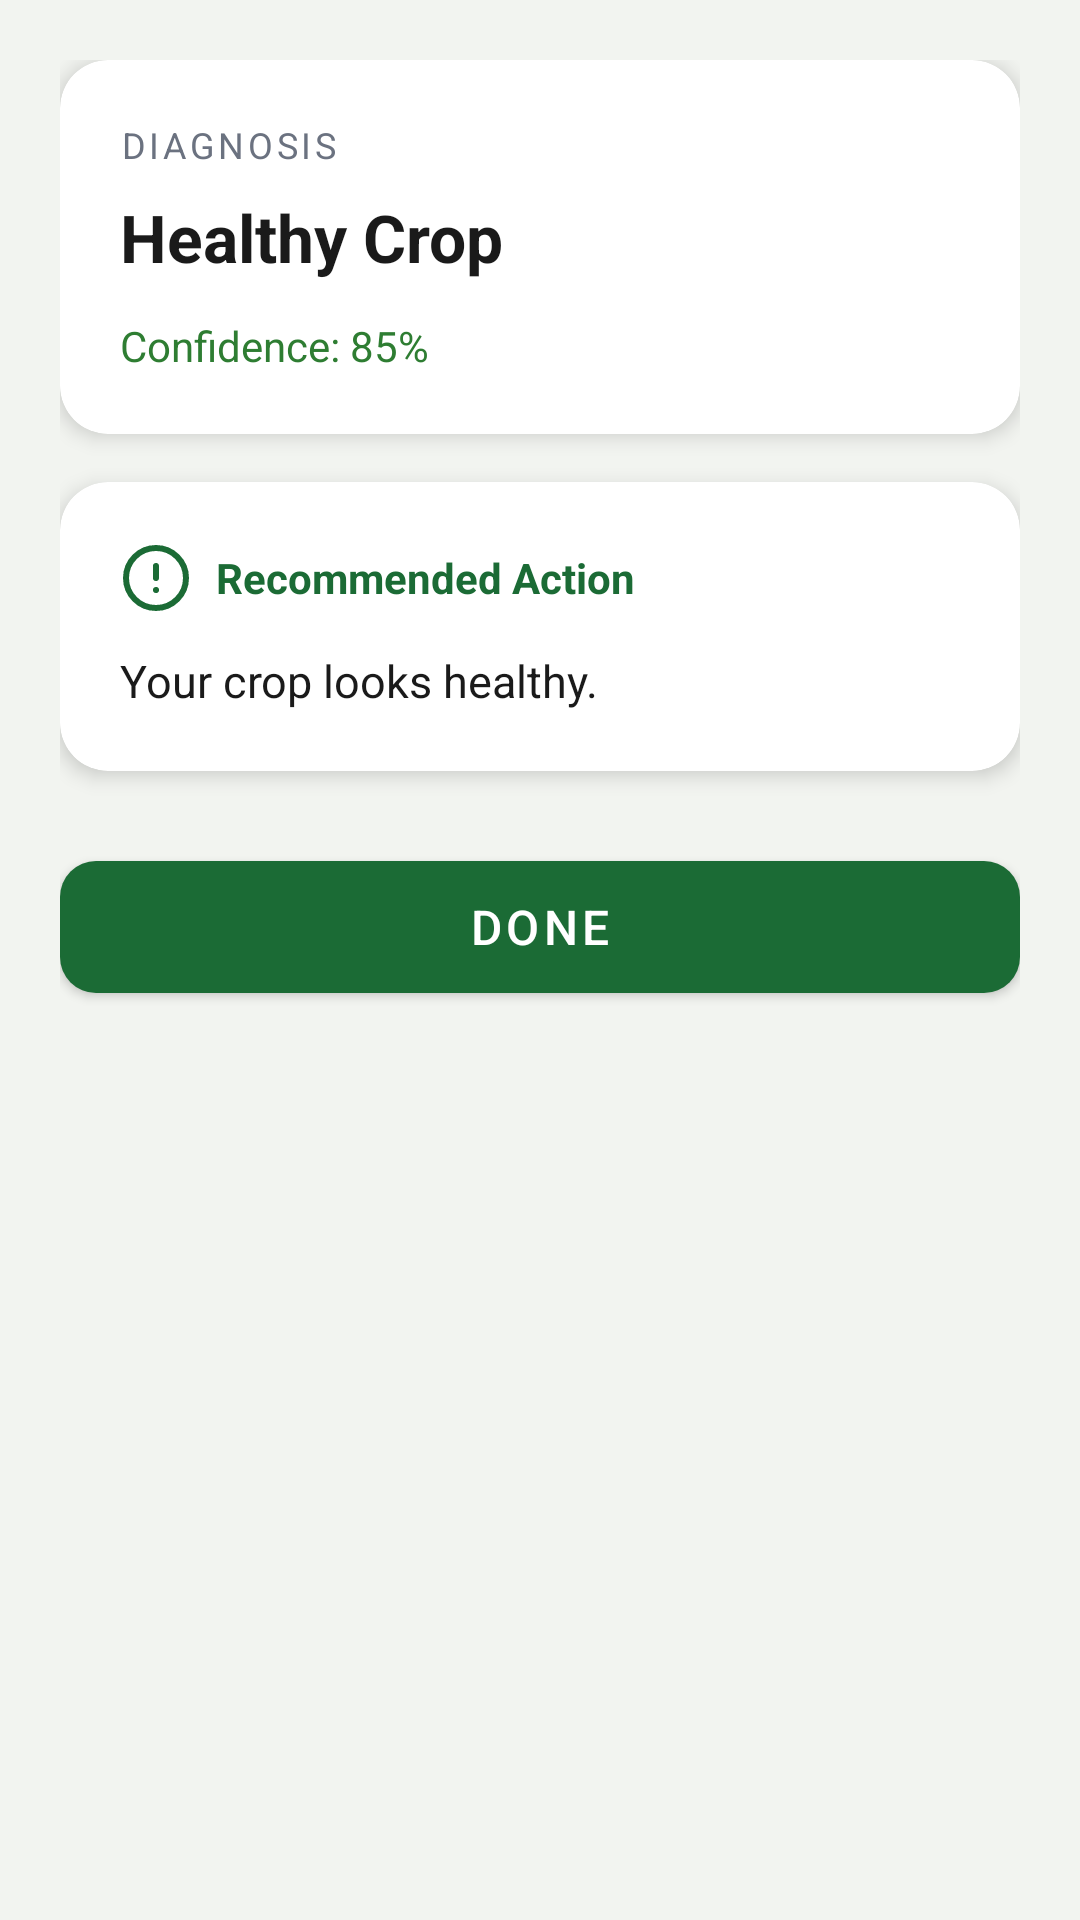

Icon click points for this 1080w x 1920h phone screenshot, format (x,y):
advice: (156,578)
